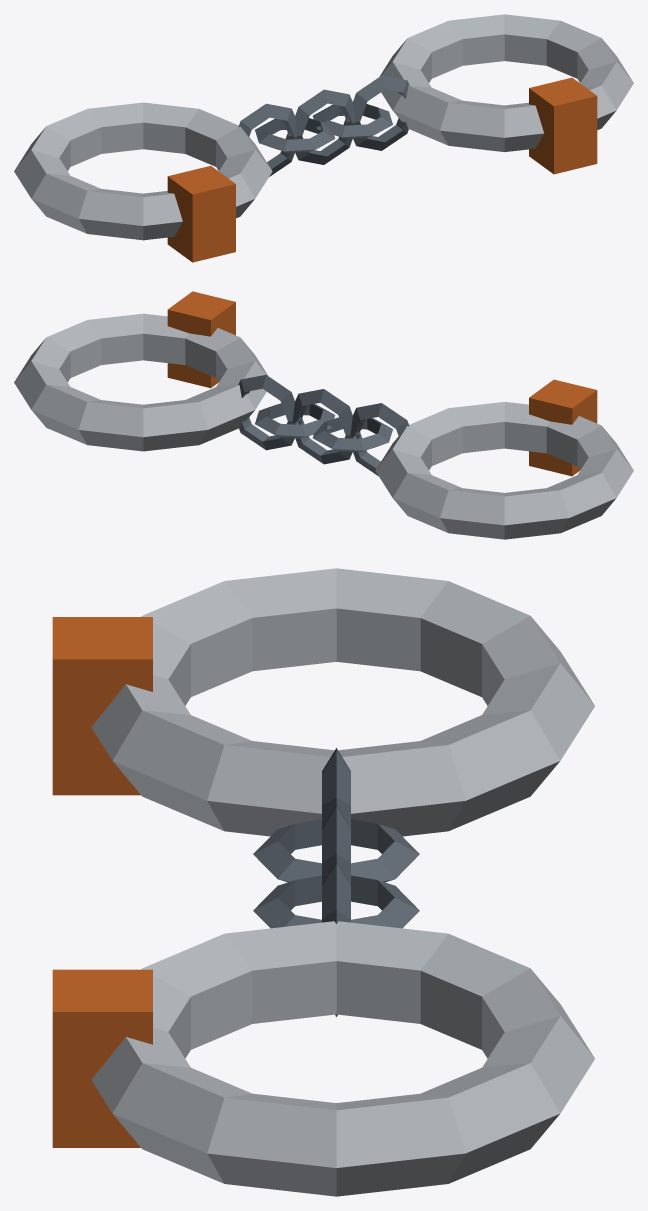
Rendered from binders.glb.
The picture shows the model from 3 angles, top to bottom: view 1: azimuth 30°, elevation 25°; view 2: azimuth 150°, elevation 25°; view 3: azimuth 270°, elevation 25°; orthographic projection. The views are drawn at different scales.
Visible parts, largest first — view 1: m; view 2: m; view 3: m.
Part boxes in pixels (<box>): m: <box>14,14,633,262</box>; m: <box>14,291,633,539</box>; m: <box>52,568,594,1196</box>.
Size of the model in its own units: 0.14 by 0.0173 by 0.0562.
